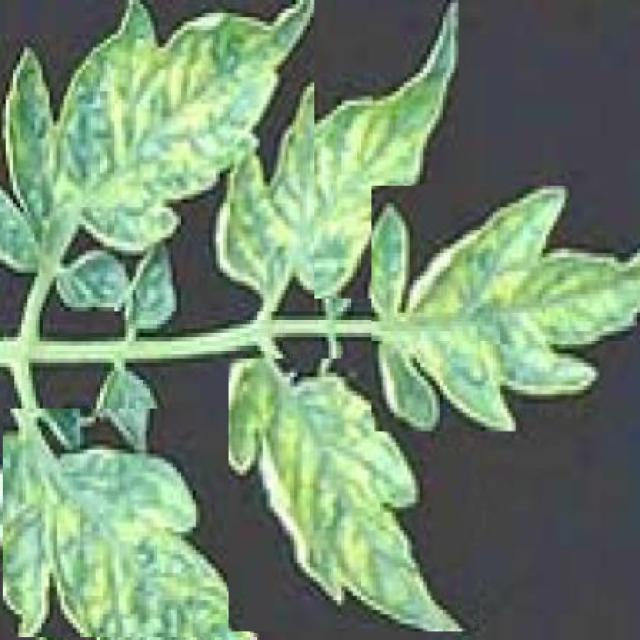Mosaic Virus: (0, 0, 314, 311), (208, 0, 458, 299), (229, 358, 475, 632), (372, 186, 640, 431), (4, 409, 272, 637)
